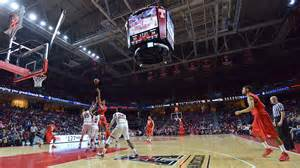basketball: (92, 78, 98, 84)
